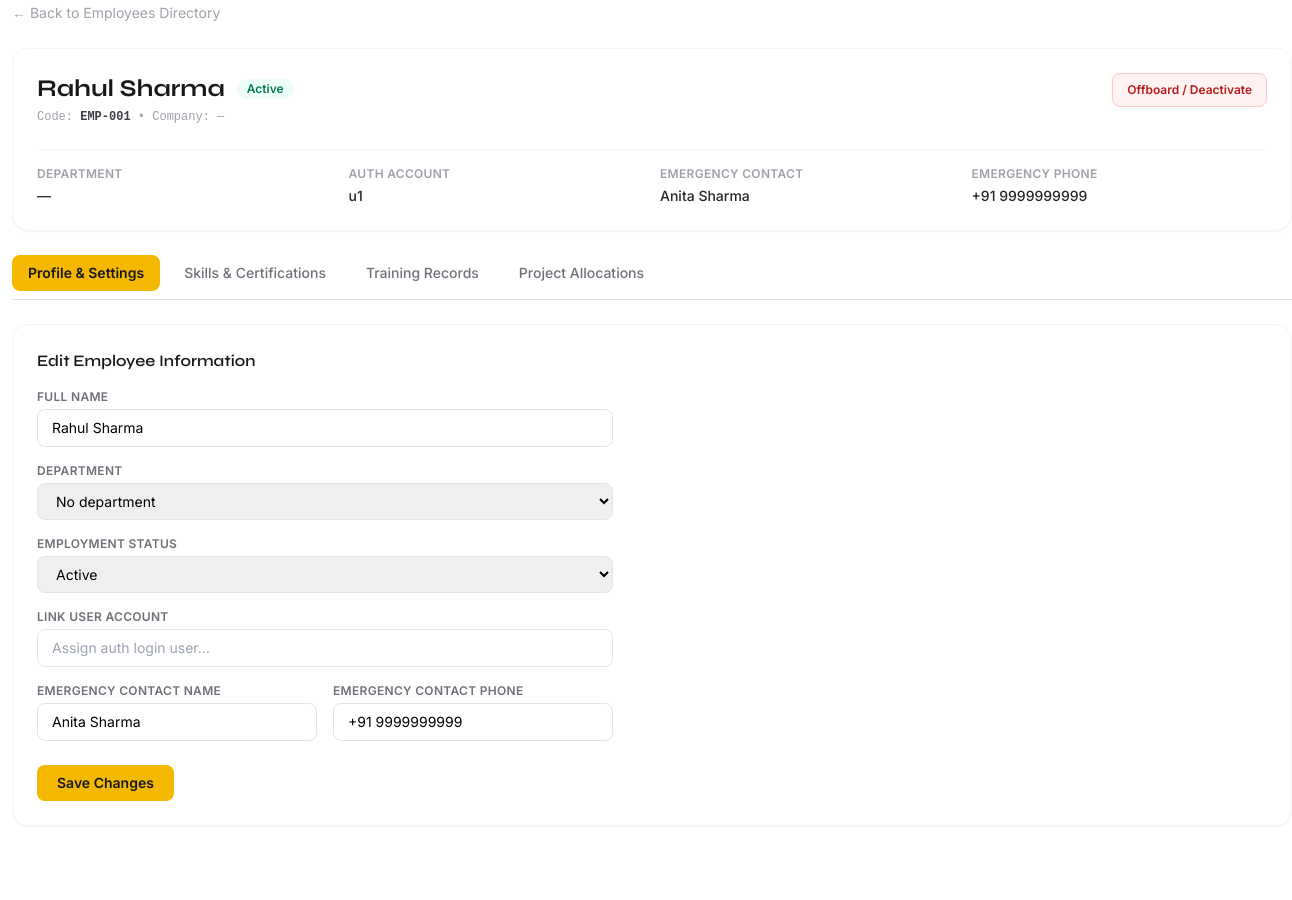
Test case: EmployeeDetailPage › adds a skill in the skills tab
expect the heading "Rahul Sharma" is shown: met, box [37,73,225,105]
Click the button "Skills & Certifications" at (255, 273), box [168,255,342,291]
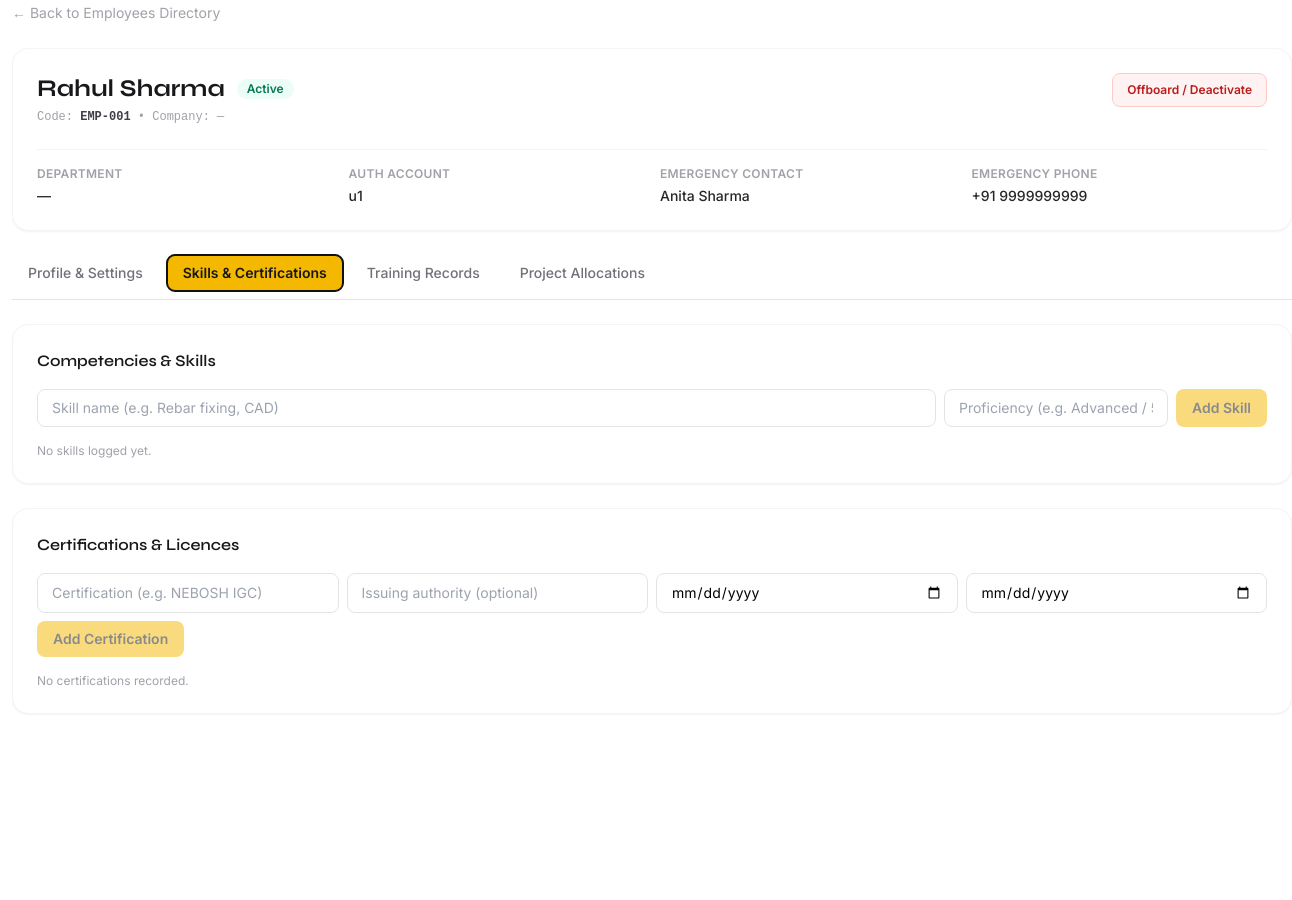
expect the heading "Competencies & Skills" is shown: met, box [37,351,216,370]
Type "Structural Analysis" into the field with placeholder "Skill name (e.g. Rebar fixing, CAD)" at (486, 408), box [37,389,936,427]
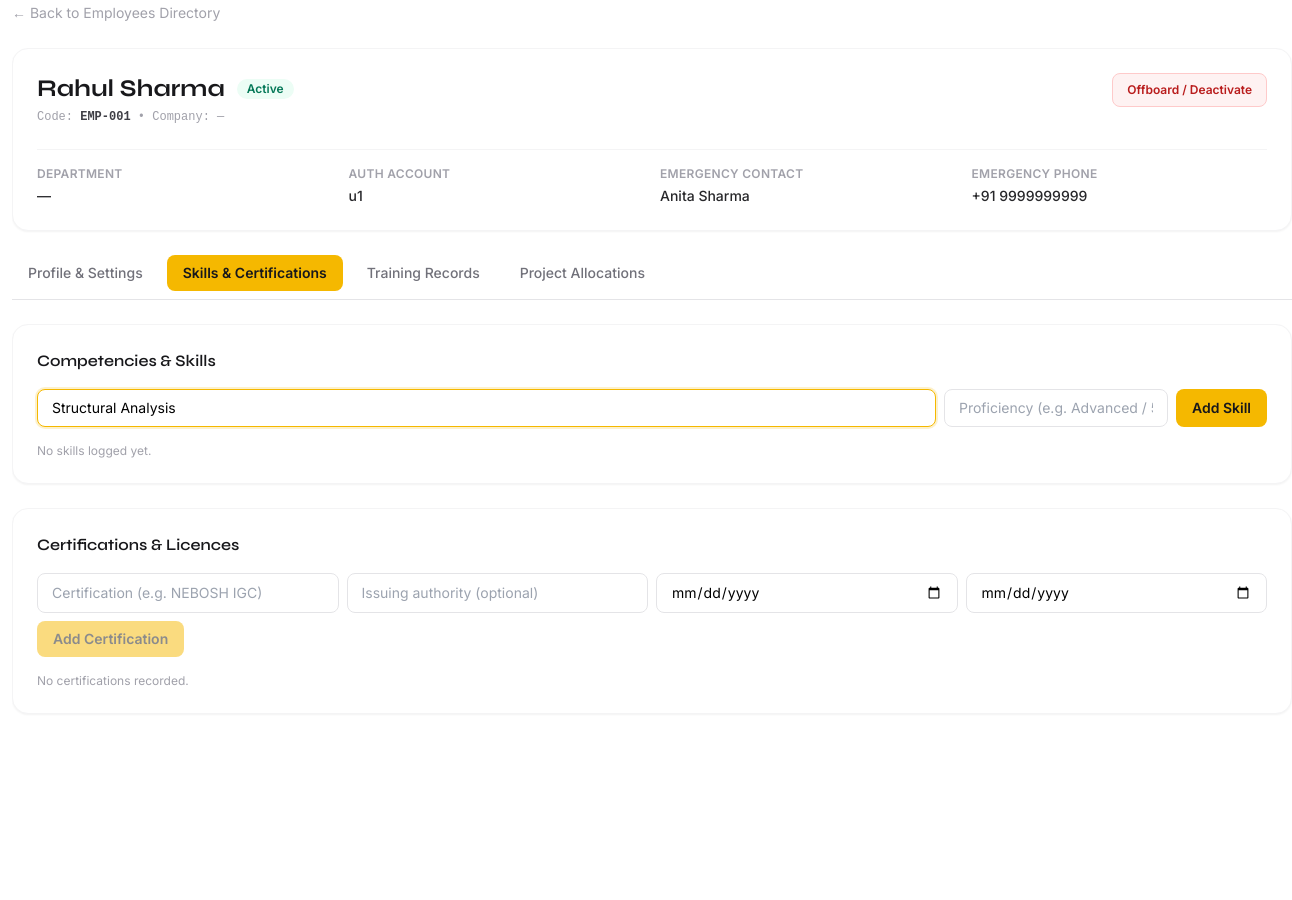
Type "Advanced" into the field with placeholder "Proficiency (e.g. Advanced / 5 yrs)" at (1056, 408), box [944,389,1168,427]
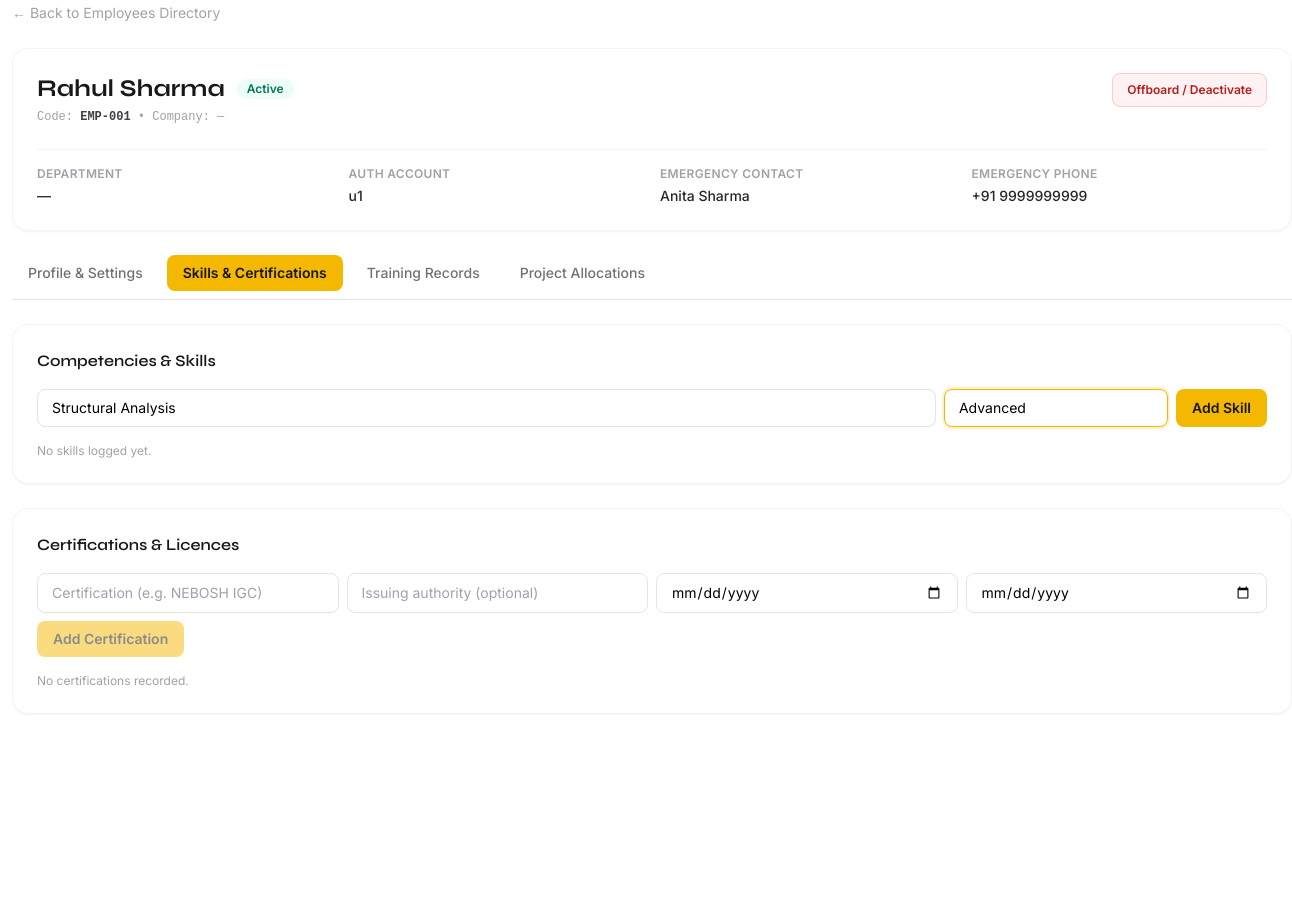
Click the button "Add Skill" at (1222, 408), box [1176,389,1267,427]
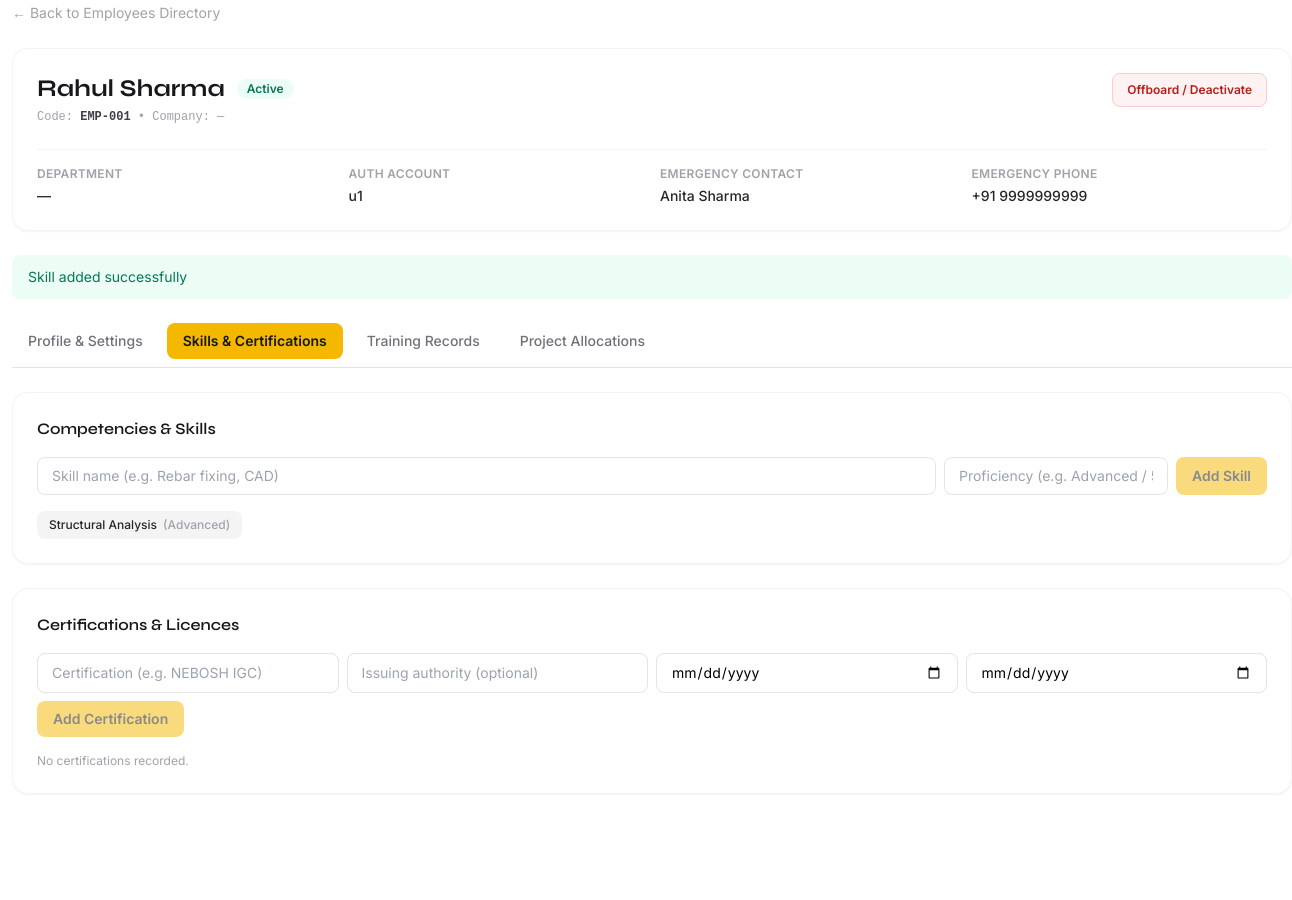
expect the text "Structural Analysis" is shown: met, box [49,517,157,533]
